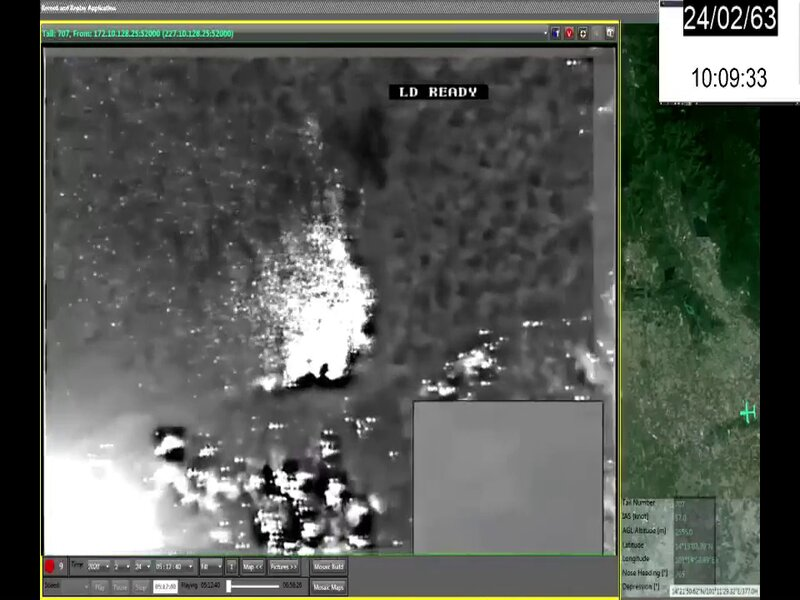Fire: (261, 214, 377, 395)
